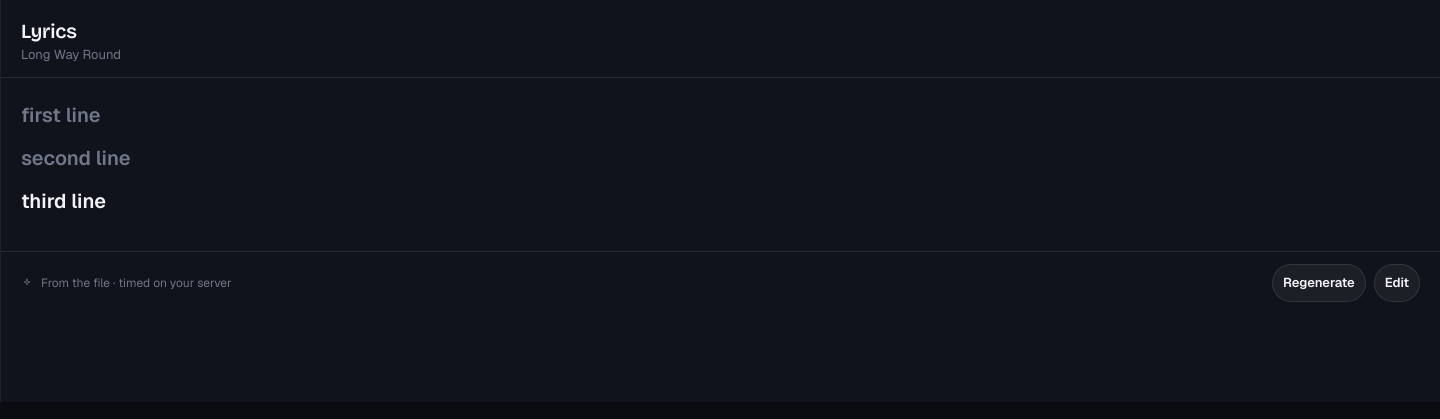
Test: the lyrics panel › re-times the file's words in place, keeping them on screen while the server works
expect the button "first line" is shown: met, box left=21, top=98, right=1420, bottom=133
Click the button "Regenerate" at (1319, 283), box left=1272, top=264, right=1366, bottom=302
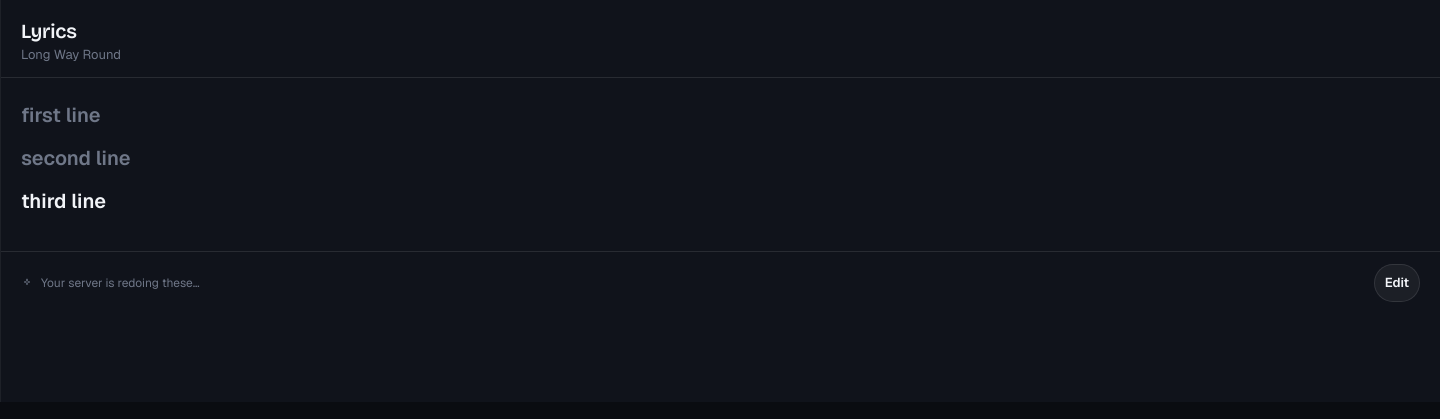
expect the button "first line" is shown: met, box left=21, top=98, right=1420, bottom=133
expect the text "Your server is redoing these…" is shown: met, box left=21, top=274, right=200, bottom=292
expect the button "Regenerate" is gone: met
